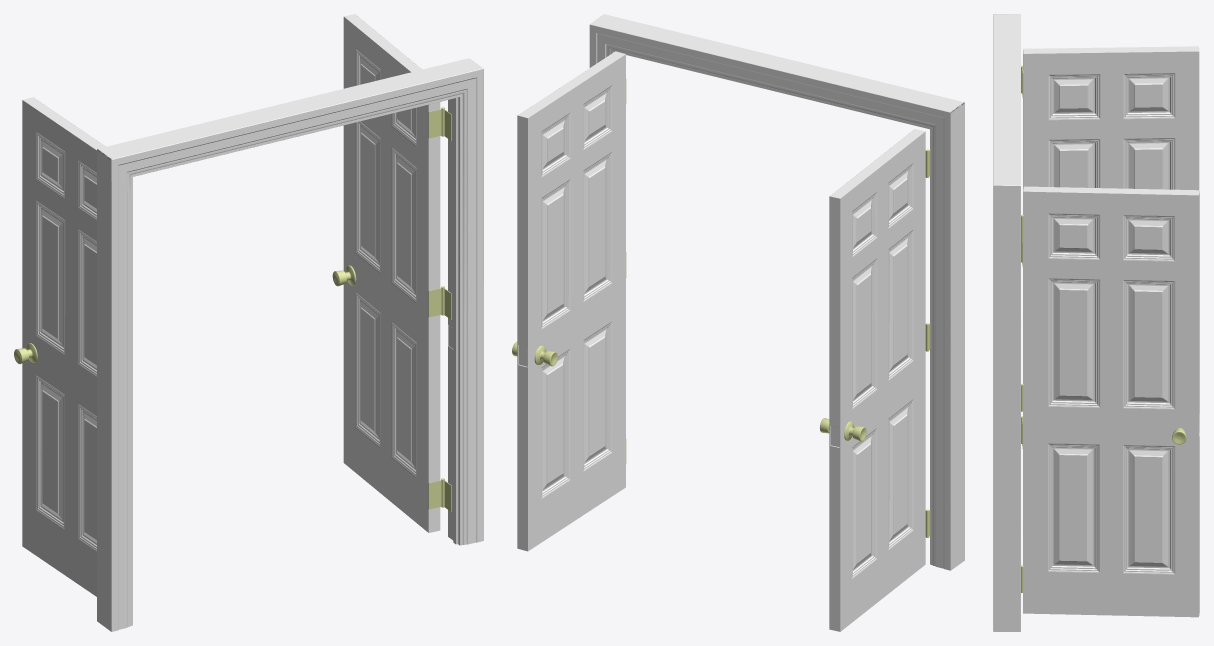
3 views of the same model, side by side, from view 1: azimuth 30°, elevation 25°; view 2: azimuth 150°, elevation 25°; view 3: azimuth 270°, elevation 25° (orthographic). The views are drawn at different scales.
Parts seen in each view (by area): view 1: doorFrame_geo, RightDoorHinge, LeftDoor.001, RightDoorFrameHinge; view 2: RightDoorHinge, LeftDoor.001, doorFrame_geo; view 3: RightDoorHinge, LeftDoor.001, doorFrame_geo.
Part boxes in pixels (x1,y1,x2,y2): doorFrame_geo: (97,58,483,631); RightDoorHinge: (332,14,440,532); LeftDoor.001: (14,97,105,596); RightDoorFrameHinge: (441,107,451,511); RightDoorHinge: (512,51,626,551); LeftDoor.001: (820,129,925,631); doorFrame_geo: (589,14,964,570); RightDoorHinge: (1023,186,1199,617); LeftDoor.001: (1022,46,1199,448); doorFrame_geo: (993,14,1020,631).
Bounding box in the file's own units: 1.75 × 2.12 × 0.8889.
Materials: 5 (2 with a texture image).
